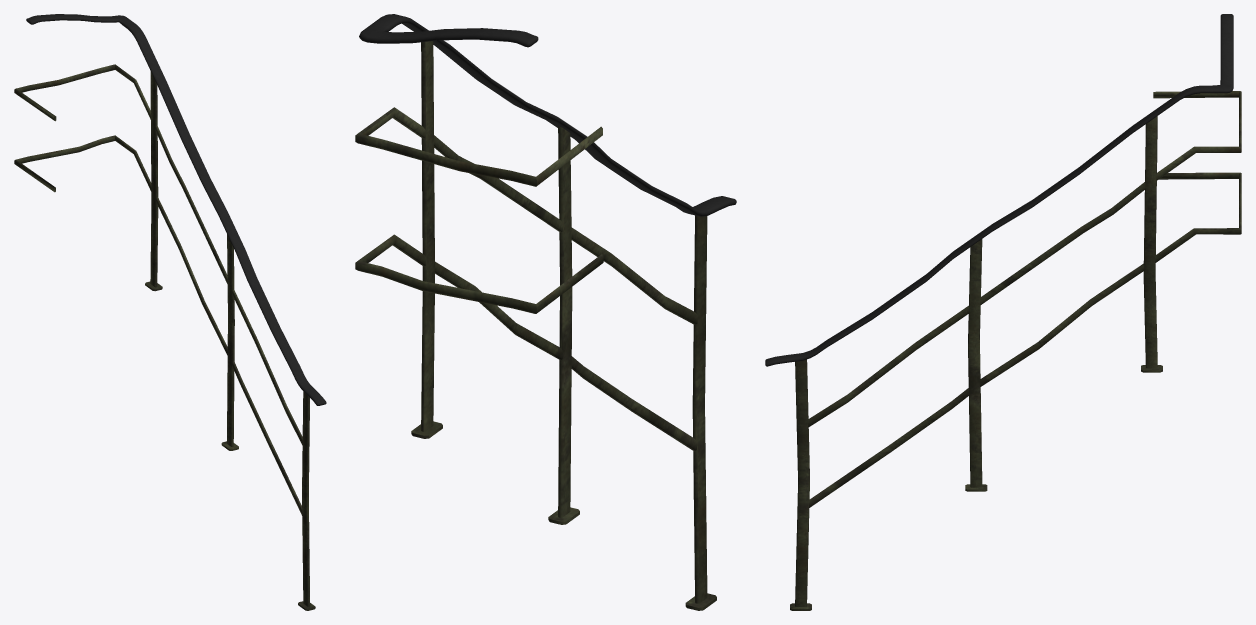
Rendered from hand_rail_2.obj.
3 views of the same model, side by side, from view 1: azimuth 30°, elevation 25°; view 2: azimuth 150°, elevation 25°; view 3: azimuth 270°, elevation 25° (orthographic). The views are drawn at different scales.
Parts seen in each view (by area): view 1: hand_rail_2; view 2: hand_rail_2; view 3: hand_rail_2.
Boxes of the visible parts, left/top/right/bottom form: hand_rail_2: left=14, top=14, right=326, bottom=610; hand_rail_2: left=355, top=14, right=736, bottom=610; hand_rail_2: left=765, top=14, right=1241, bottom=610.
Size of the model in its own units: 0.6361 by 2.74 by 2.17.
